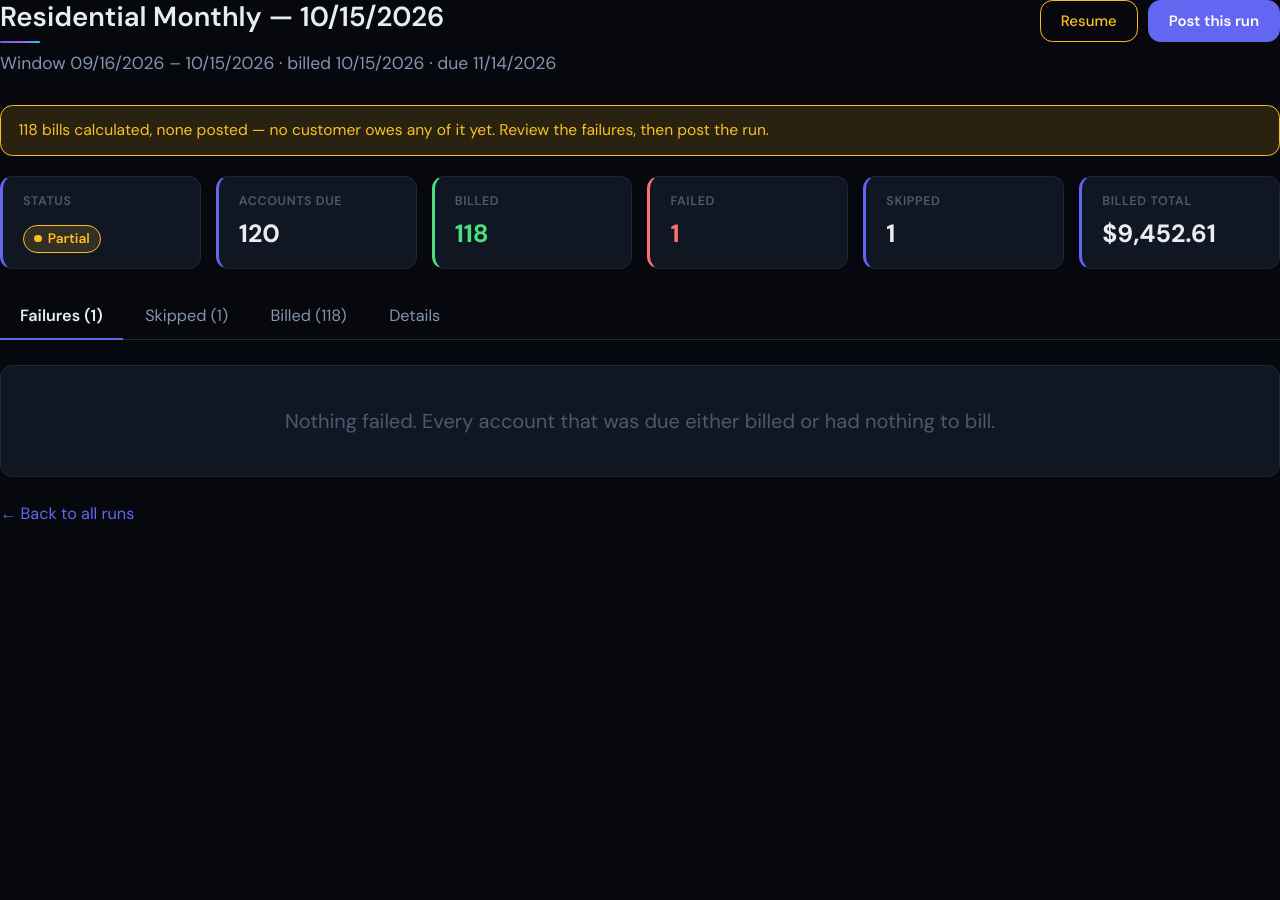
Scenario: Billing run detail — exceptions › opens a billed account's bill without leaving the run
Click the button "Billed (118)".
click(309, 317)  # box left=250, top=294, right=367, bottom=340
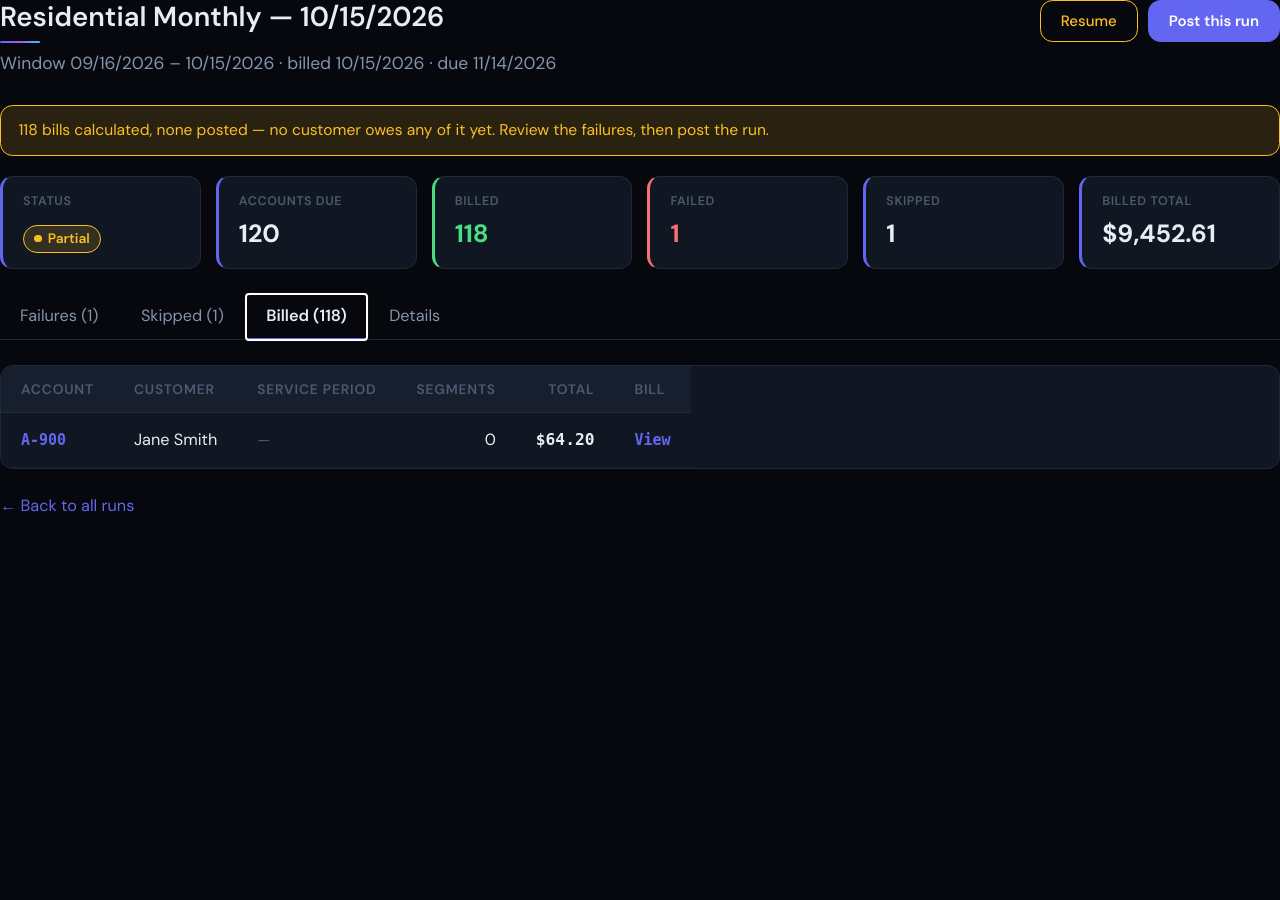
Click the button "View".
click(653, 440)  # box left=634, top=429, right=671, bottom=451
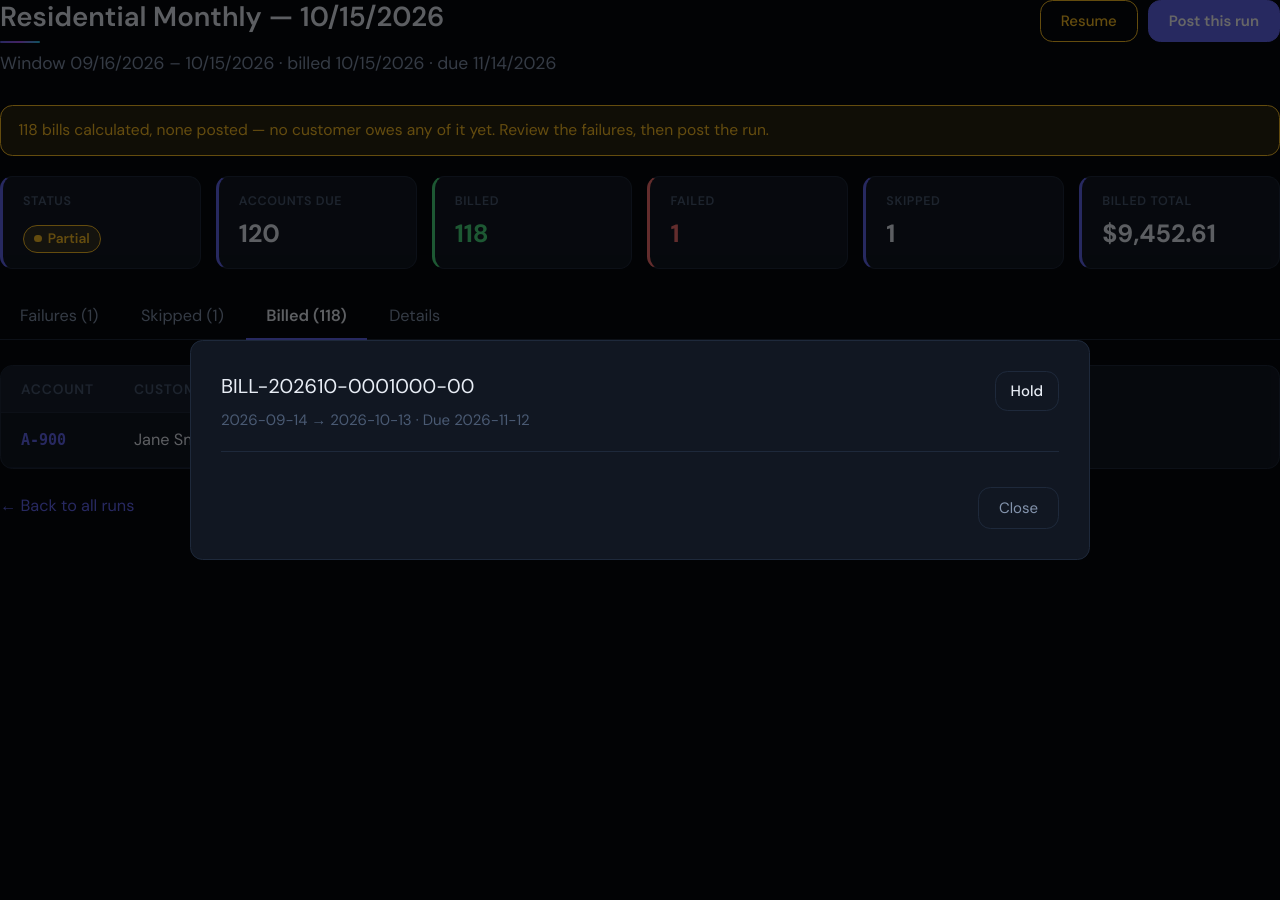
Expected: the button "Billed (118)" is shown, left=246, top=294, right=367, bottom=340
Now the heading "BILL-202610-0001000-00" is shown, box left=221, top=373, right=474, bottom=399
